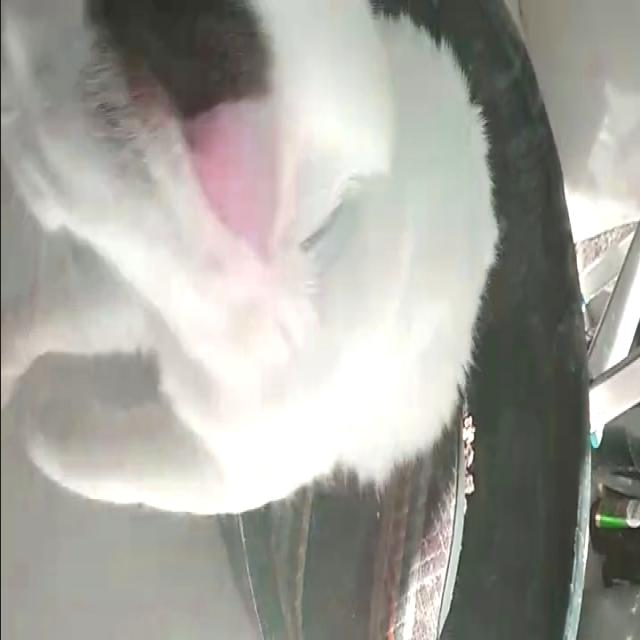Simba: (1, 0, 510, 608)
